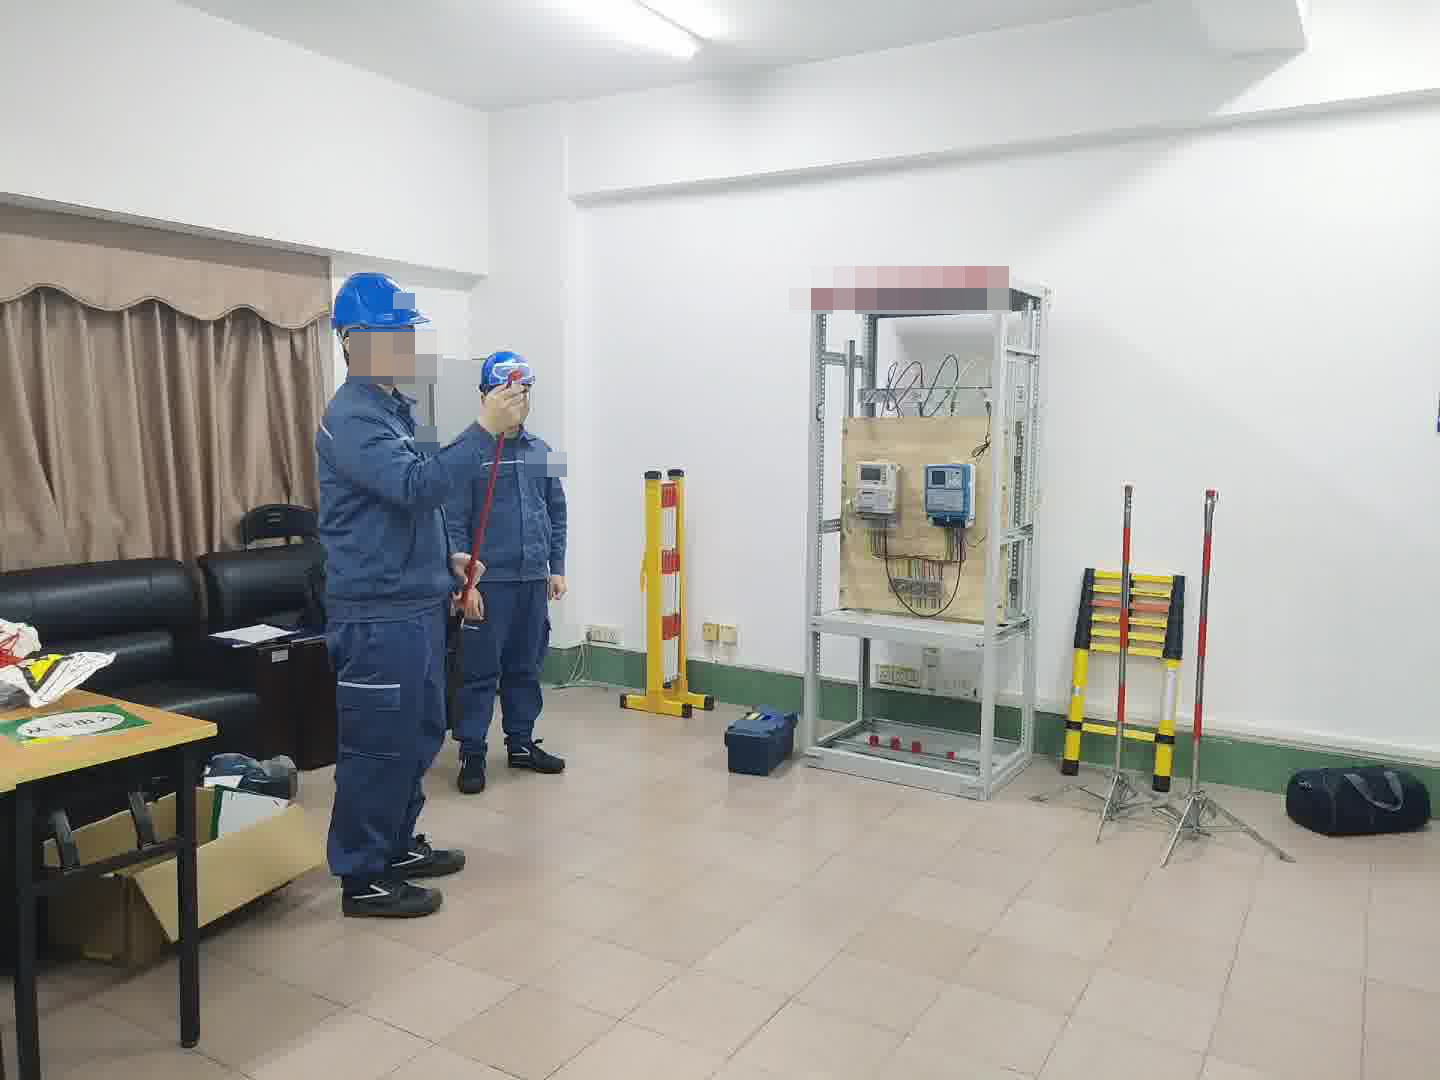downsuit: (326, 627, 450, 878), (463, 590, 550, 754)
halt: (329, 271, 431, 385), (478, 349, 539, 434)
hand: (472, 382, 528, 433), (458, 583, 490, 617), (447, 550, 485, 577), (550, 573, 568, 595)
inear: (336, 325, 372, 366)
person: (311, 269, 468, 915), (456, 343, 573, 783)
testrod: (473, 428, 513, 573)
upsuit: (313, 377, 464, 611), (469, 427, 565, 581)
